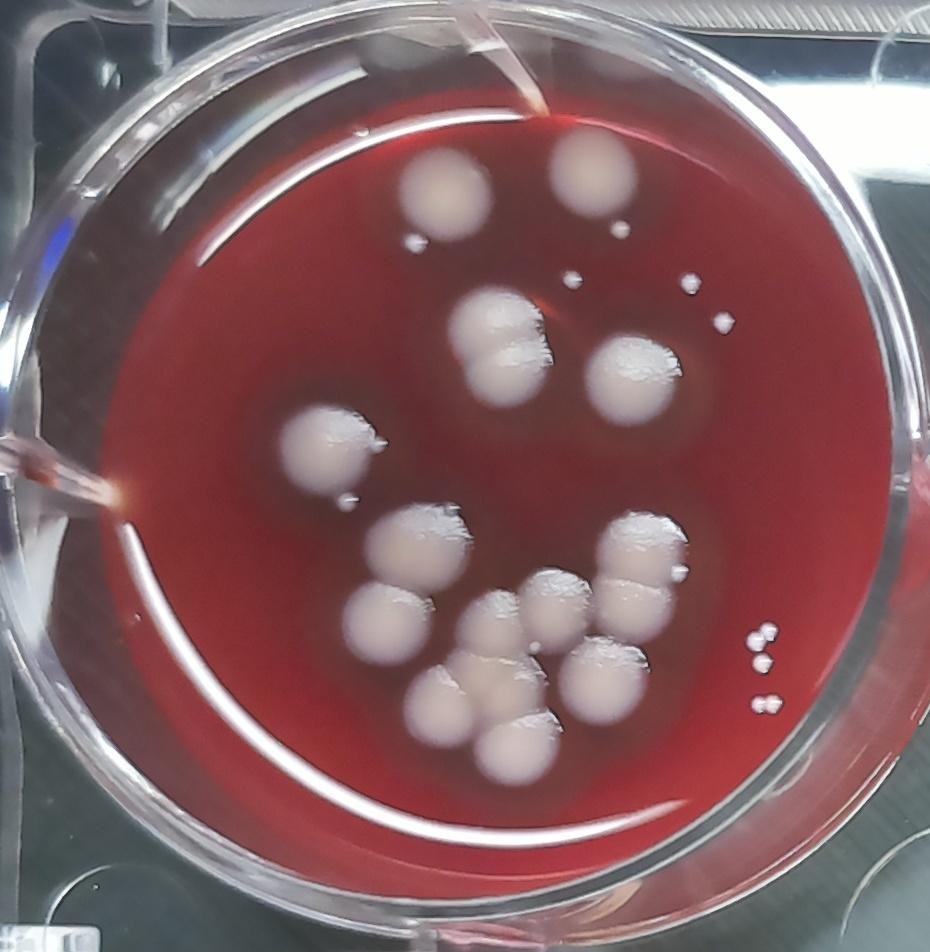staphylo-: (745, 618, 780, 651), (708, 305, 740, 339), (676, 266, 707, 300), (398, 230, 431, 259), (749, 694, 787, 718), (558, 265, 587, 295), (366, 431, 394, 458), (334, 490, 361, 517), (606, 217, 632, 241), (749, 651, 775, 675), (666, 563, 691, 587), (440, 499, 462, 520), (524, 637, 543, 657)
